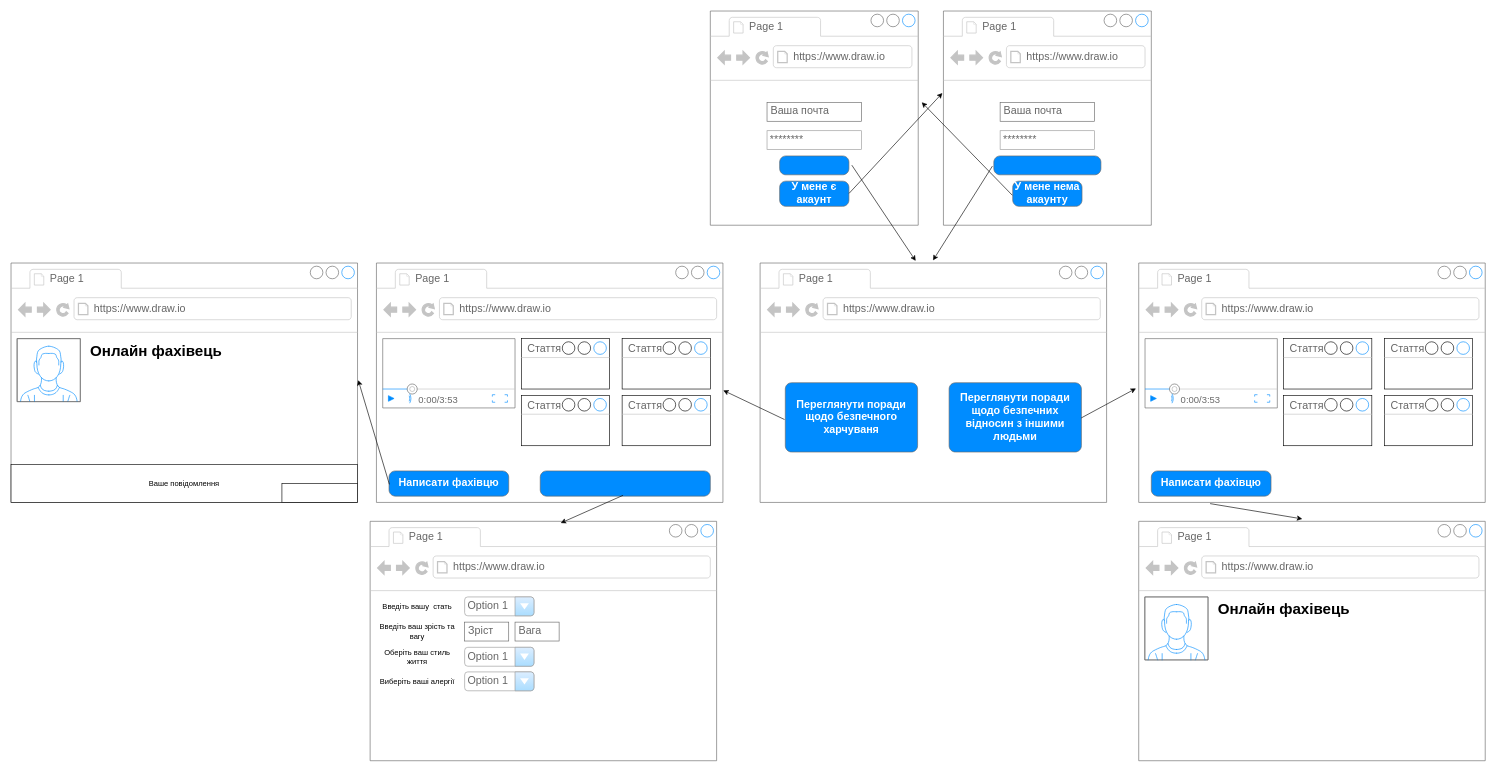
The diagram is 1496 pixels wide and 772 high, and some of its shapes have lost their labels. The shapes that lost their labels are listed below. From the top down, each one's centre as x and y in pixels, then its label:
At point 814,165: "Реєстрація".
At point 1047,165: "Авторизуватись".
At point 319,492: "Organization".
At point 625,483: "Внести свої дані для персоналізованих порад".
